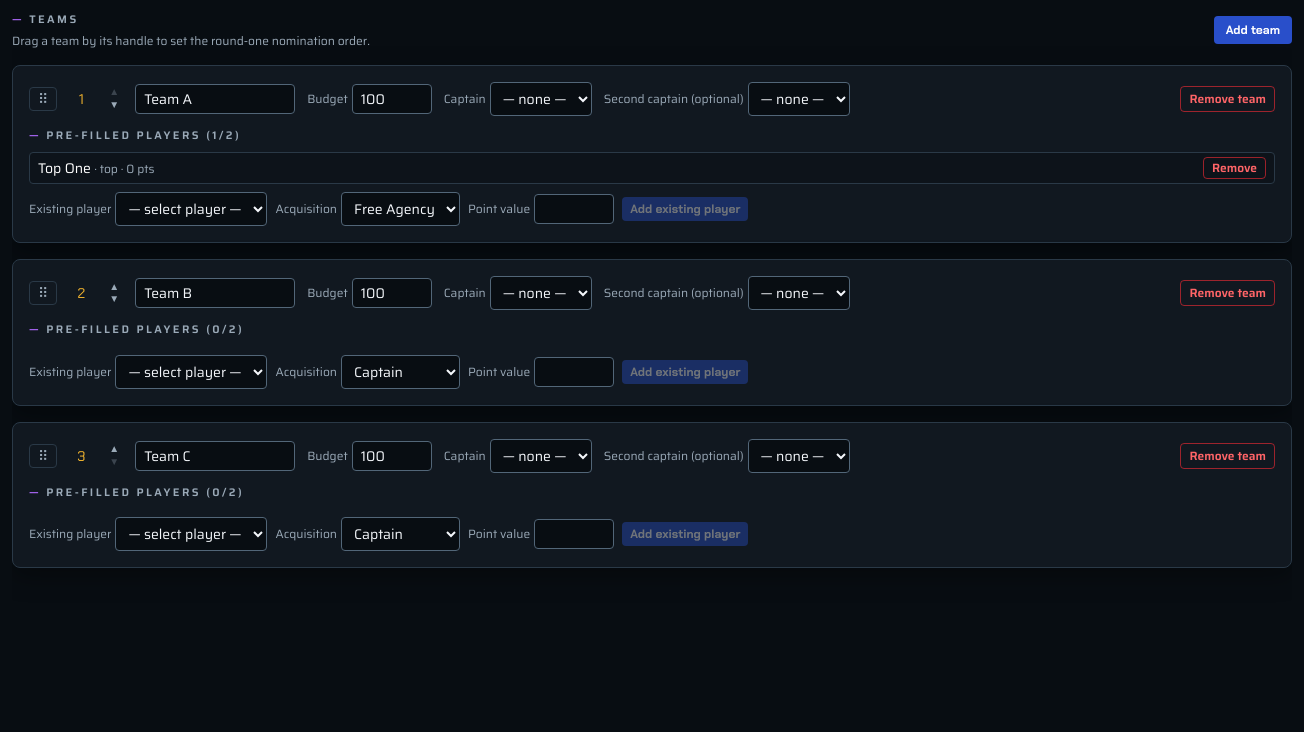
Test: TeamEditor › nomination order › shows the new order while saving, then restores it when the RPC fails
Click the button named "Move Team C up" at (114,449), box [105,443,123,456]
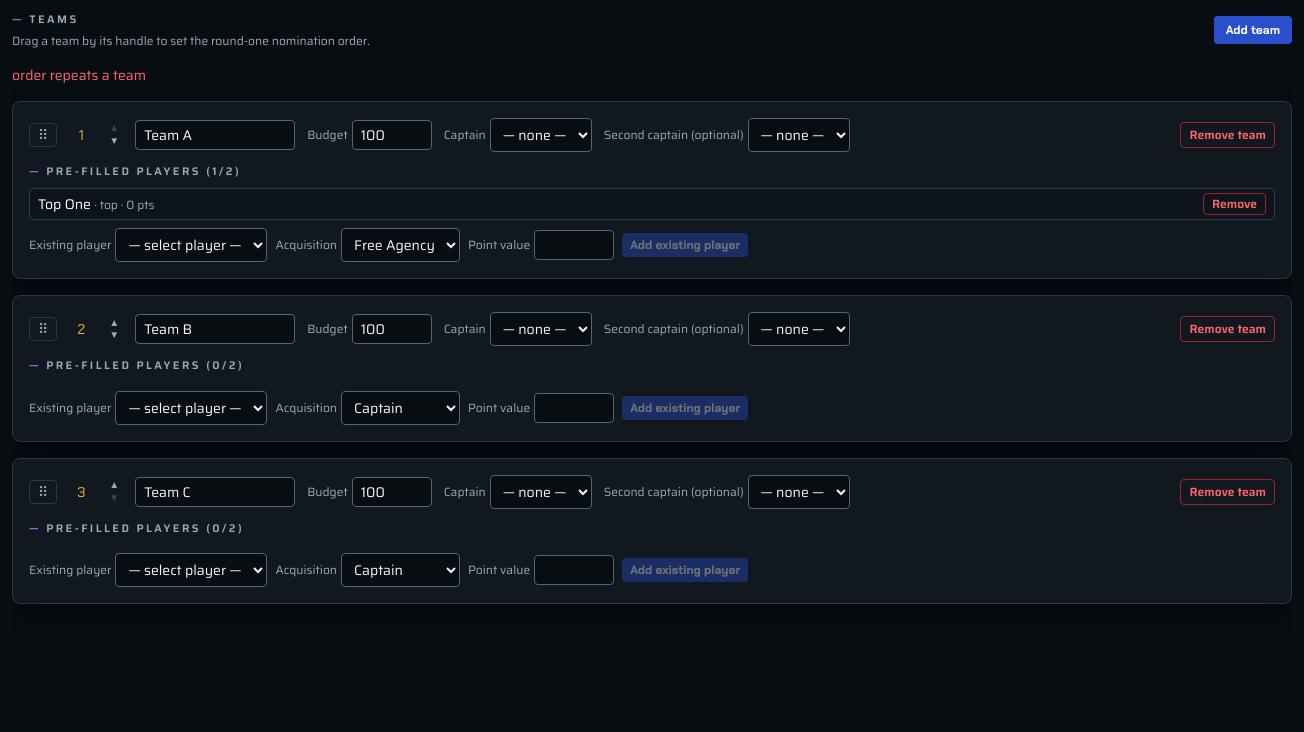
Check: the text named "Nomination position for Team C" reads "3", box [77,482,85,500]
Check: the text "order repeats a team" is shown, box [12,64,146,86]
